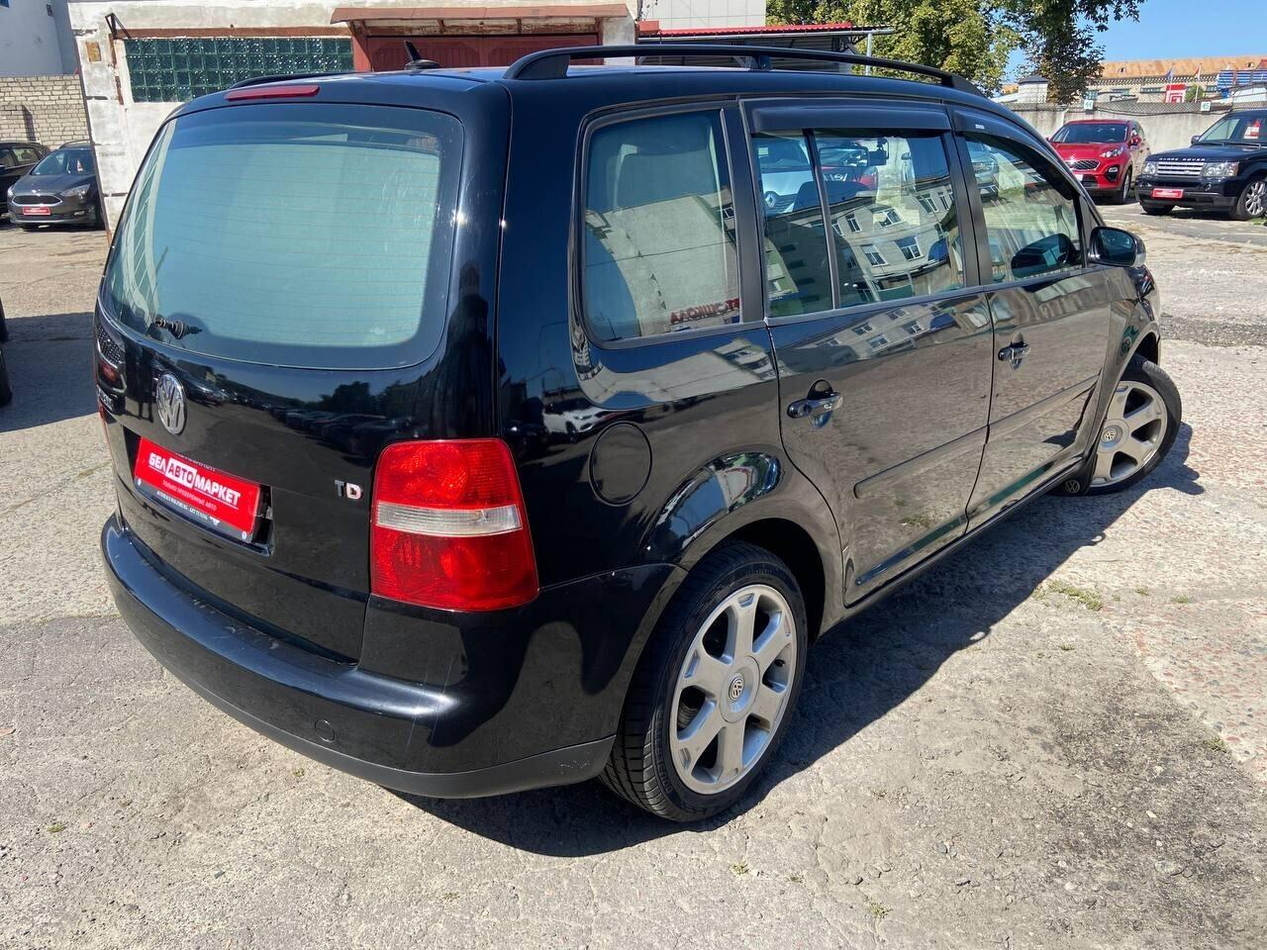Touran_2003-2006: (92, 63, 1185, 831)
